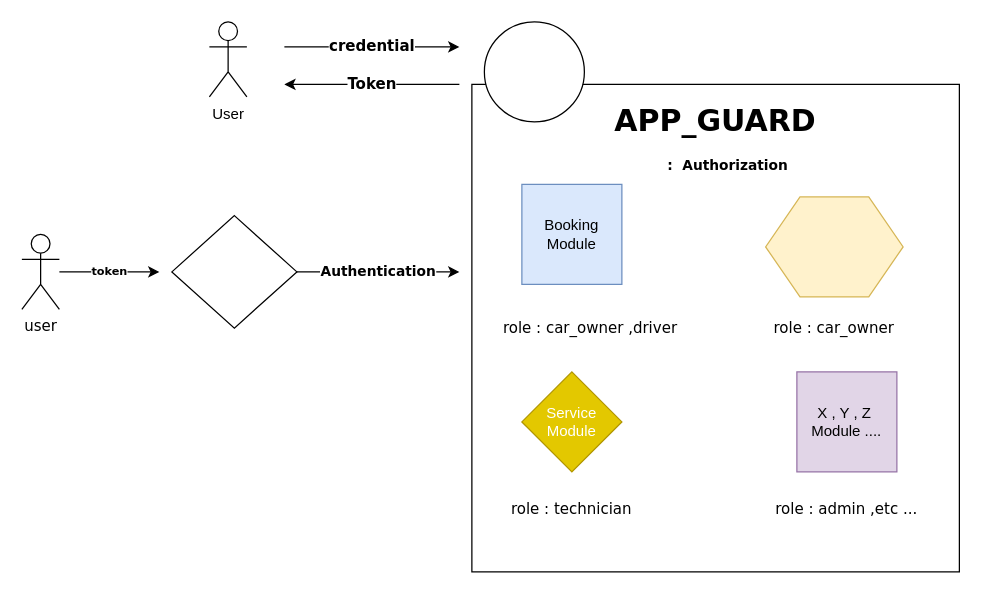
This 981x594 diagram has some shape labels left out. Each missing label, with the box of its shape:
Auth Middleware: (171, 214, 297, 328)
Auth Module: (483, 21, 584, 122)
Car Module: (764, 196, 903, 297)
